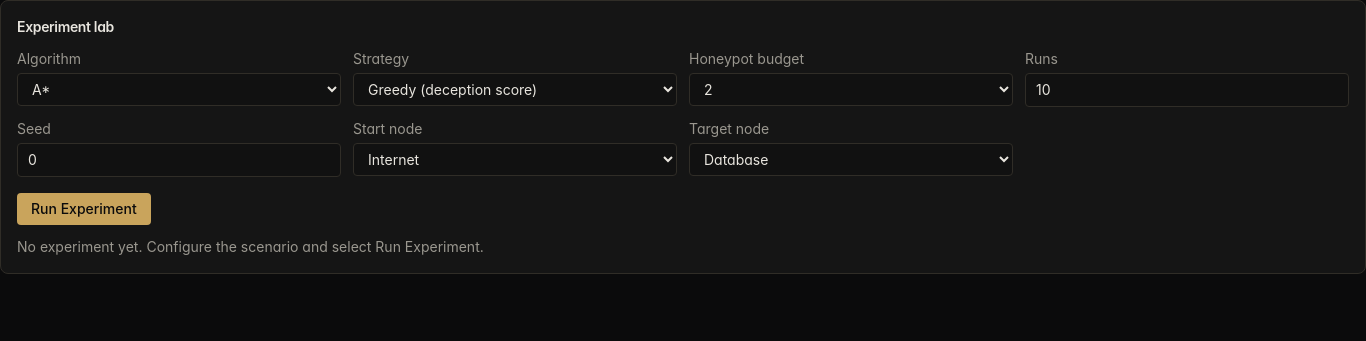
ExperimentLab › shows an error state when the experiment fails
Click the button "Run Experiment". click: (84, 209)
box: [17,193,151,225]
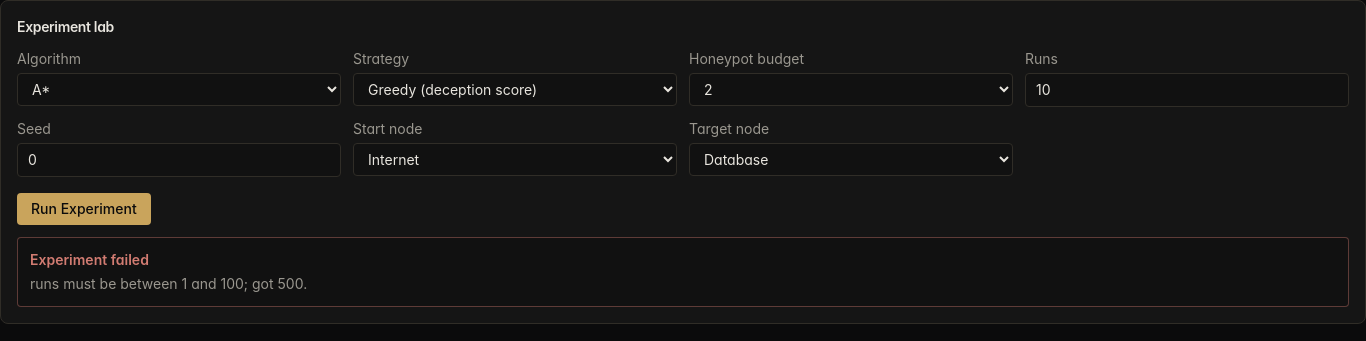
Expected: the text "Experiment failed" is shown, [30,251,149,268]
Expected: the text "runs must be between 1 and 100; got 500." is shown, [30,275,307,292]
